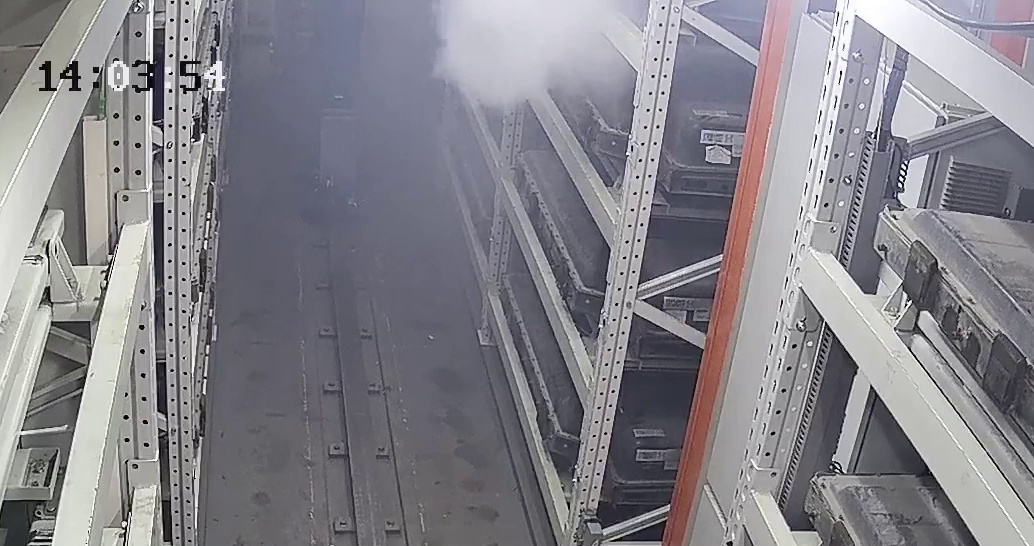smoke: (414, 3, 625, 140)
